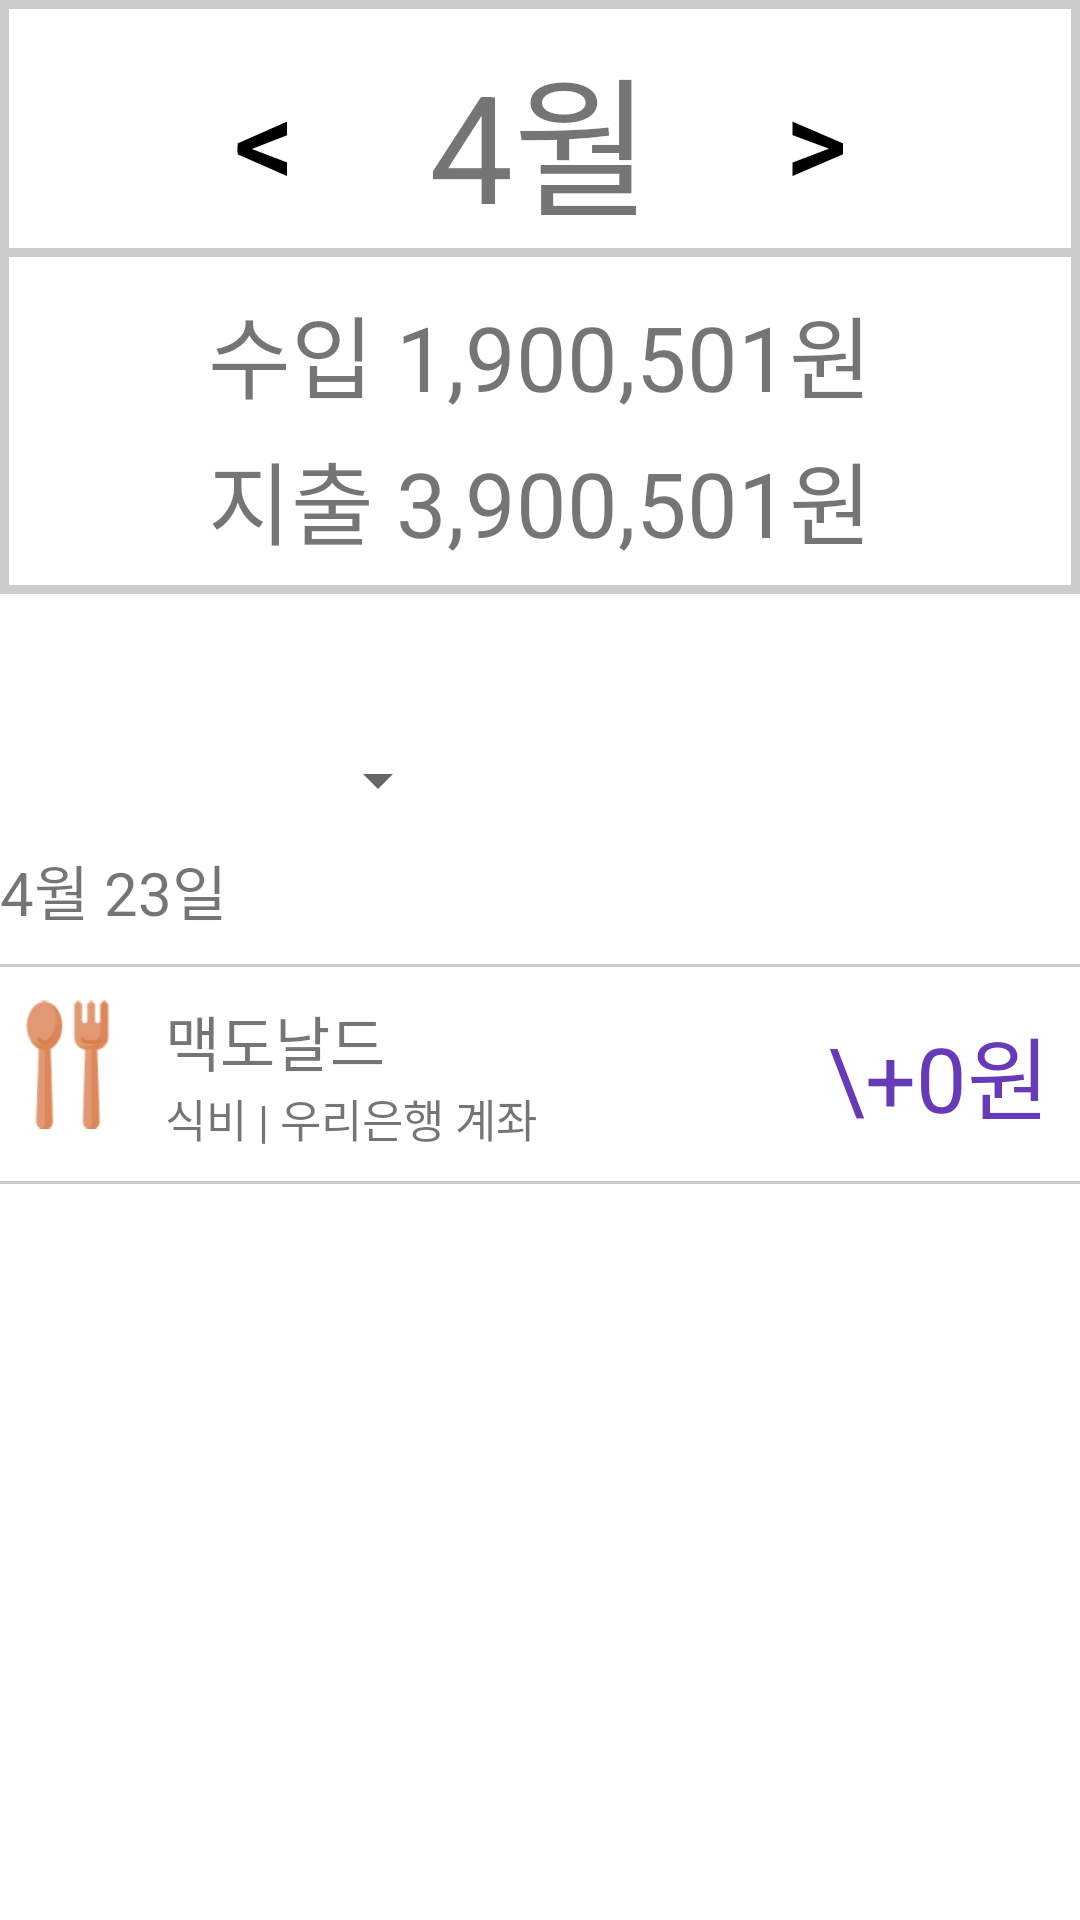

Screen size 1080w x 1920h. Icon name, then its box in pixels as (x1, y1, x2, y2):
food: (26, 1000, 109, 1129)
